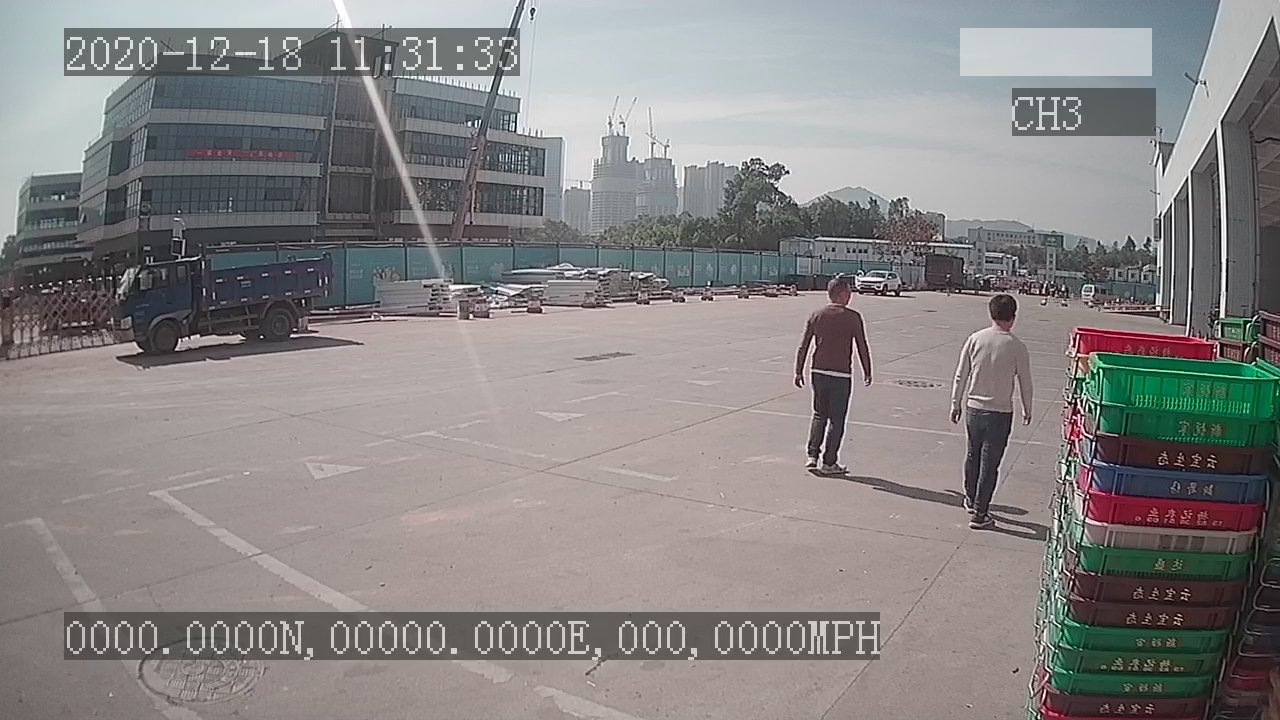person: (948, 290, 1033, 531)
